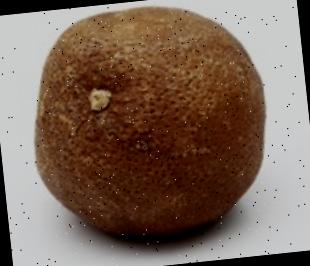Orange Rotten: (18, 0, 293, 256)
